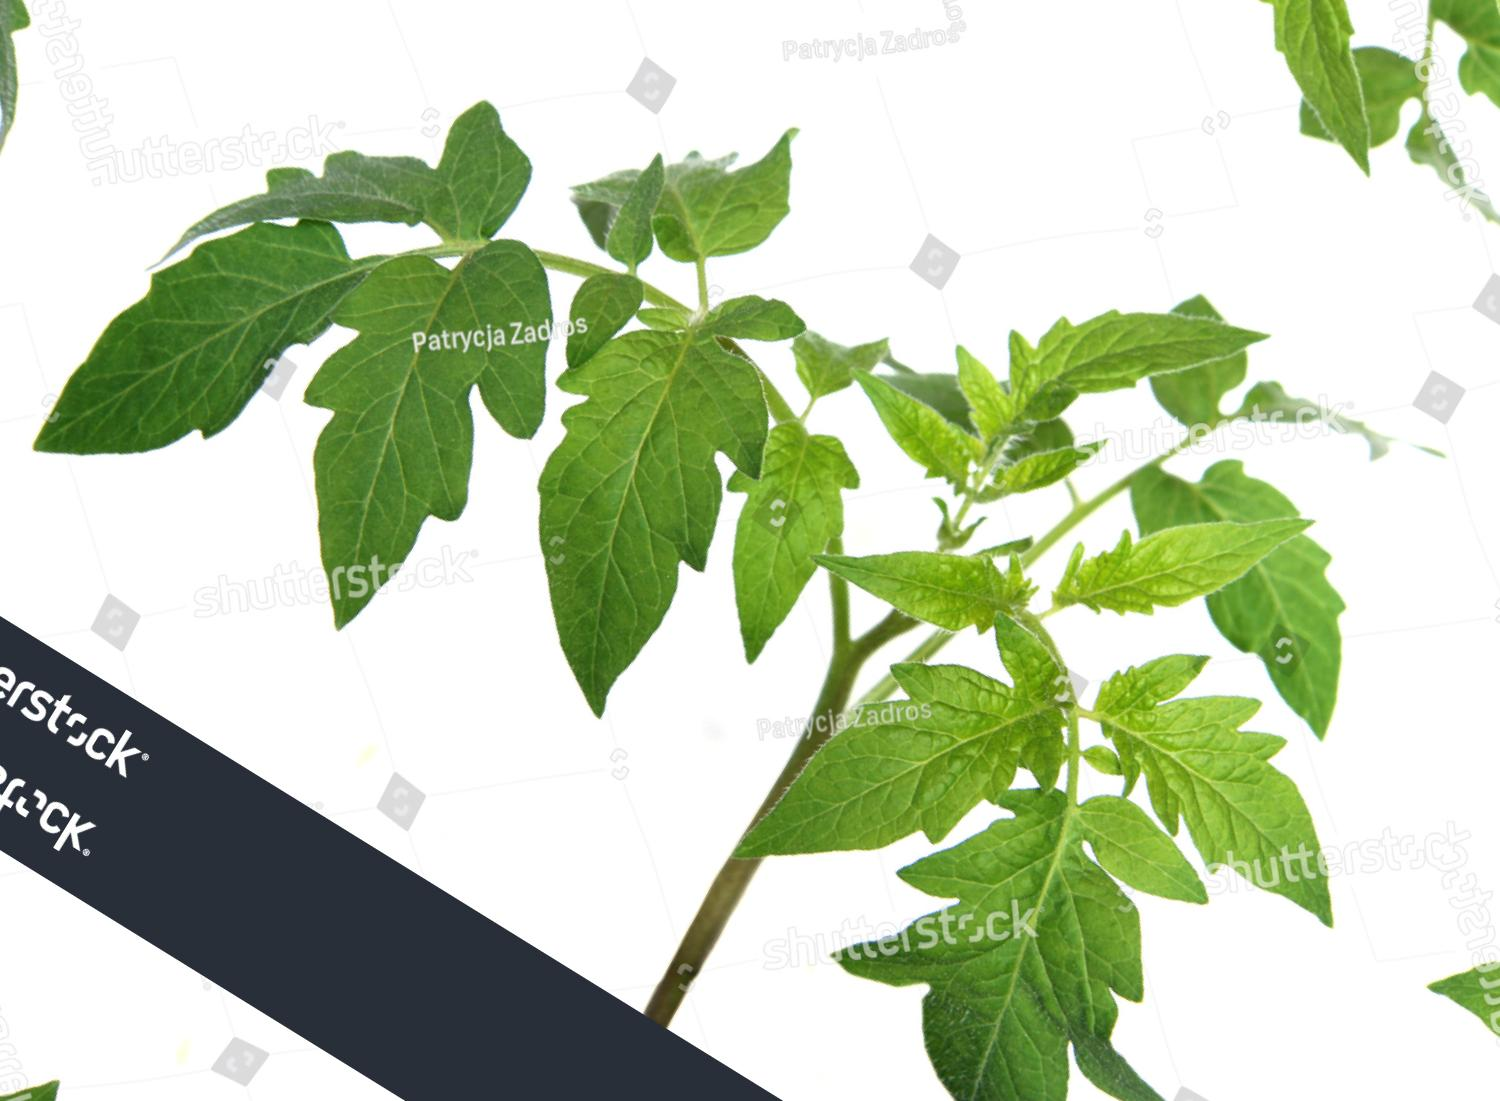Tomato leaf: (146, 183, 691, 798), (415, 242, 878, 784), (995, 597, 1464, 1033), (9, 114, 426, 583), (807, 717, 1281, 1101), (869, 193, 1257, 616), (979, 377, 1345, 765), (736, 588, 1075, 959)
